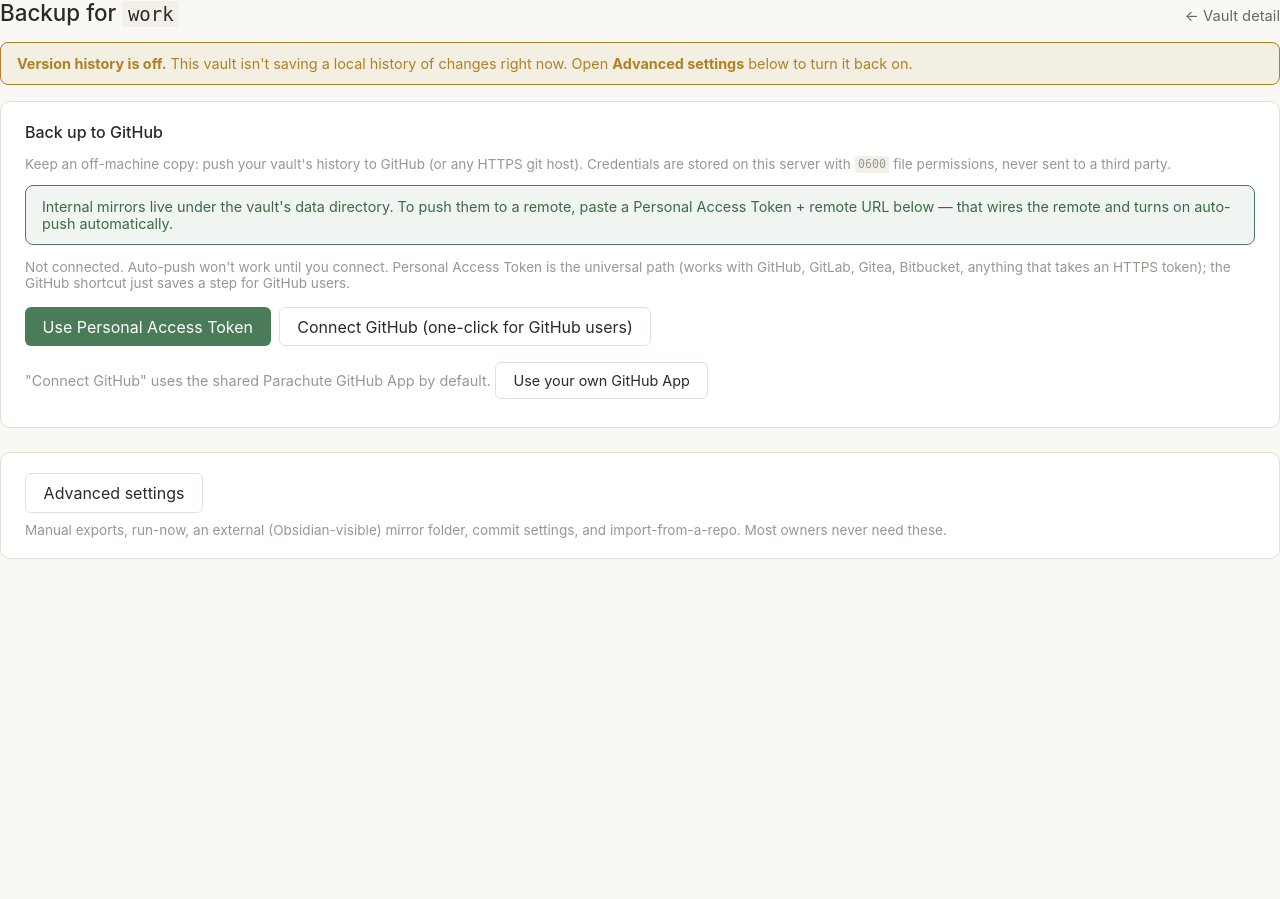
Test: VaultMirror — admin scope › clicking External folder mirror preset switches to external location + reveals path field
Click the button "Advanced settings" at (114, 493), box [25,473,203,513]
(page scrolled)
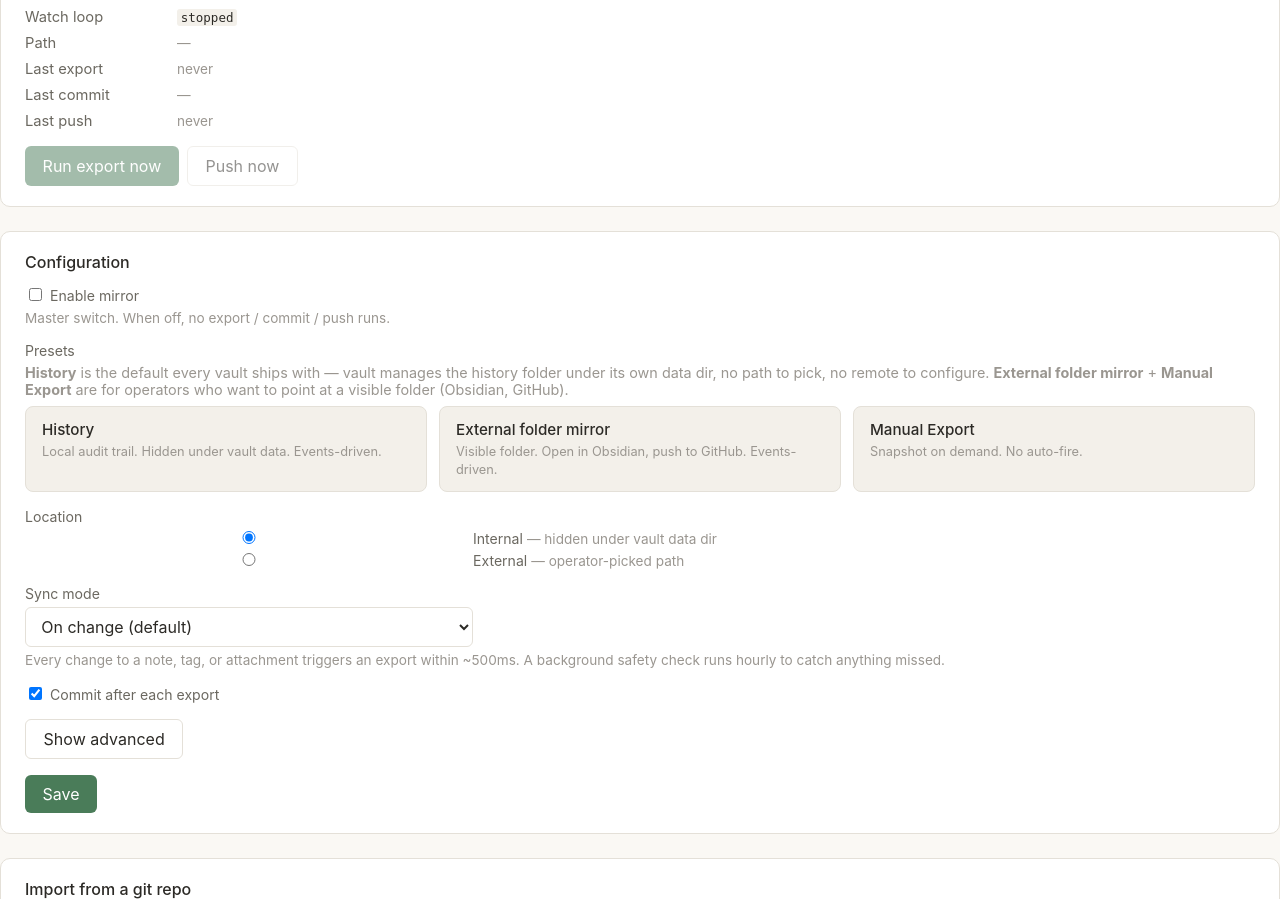
Expected: the heading "Configuration" is shown, [25,252,130,272]
Click the button with aria-label "Apply External folder mirror preset" at (640, 449), box [439,406,841,492]
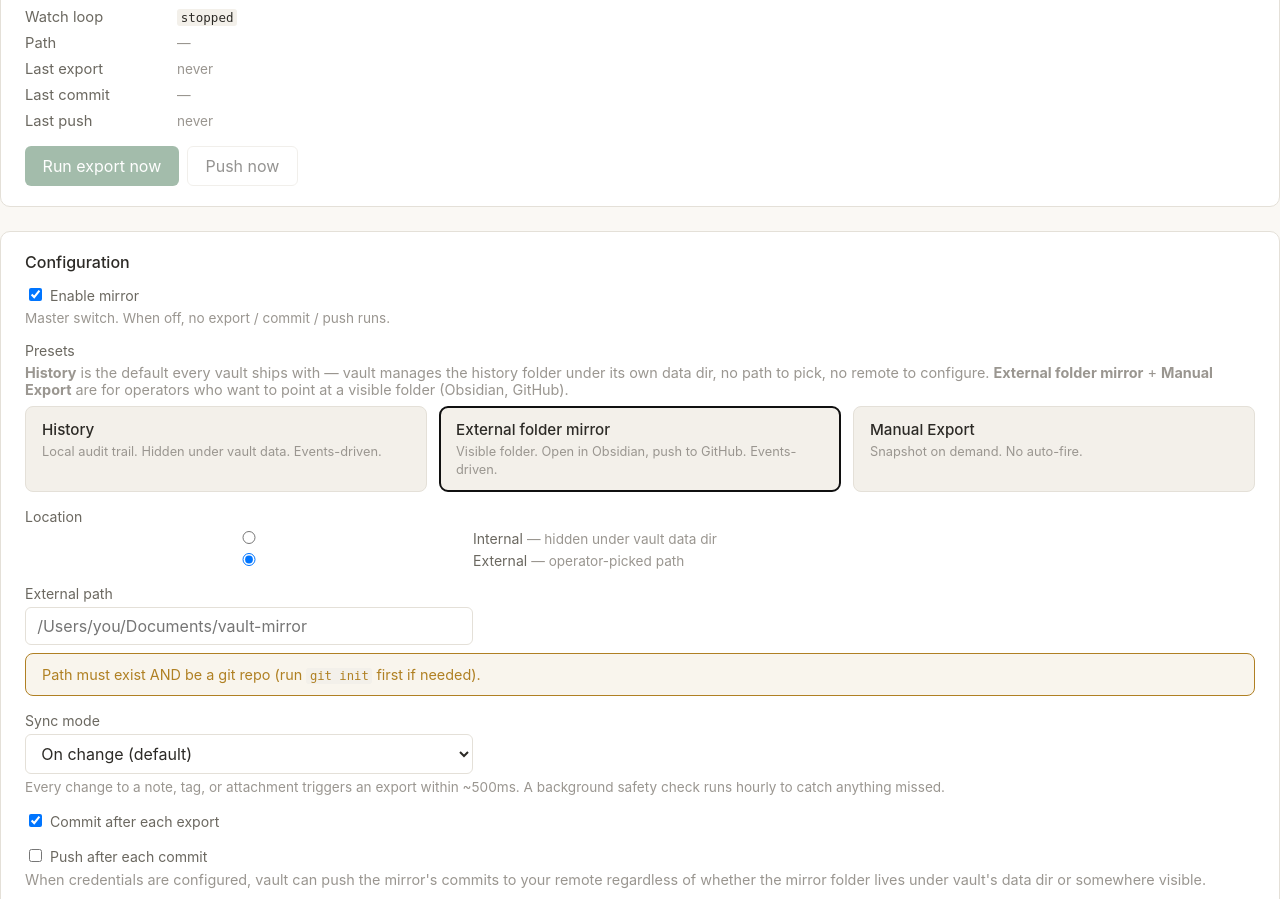
Expected: the field labelled "External path" is shown, [25,607,473,645]
Expected: the text "Path must exist AND be a git repo (run git init first if needed)." is shown, [25,653,1255,696]
